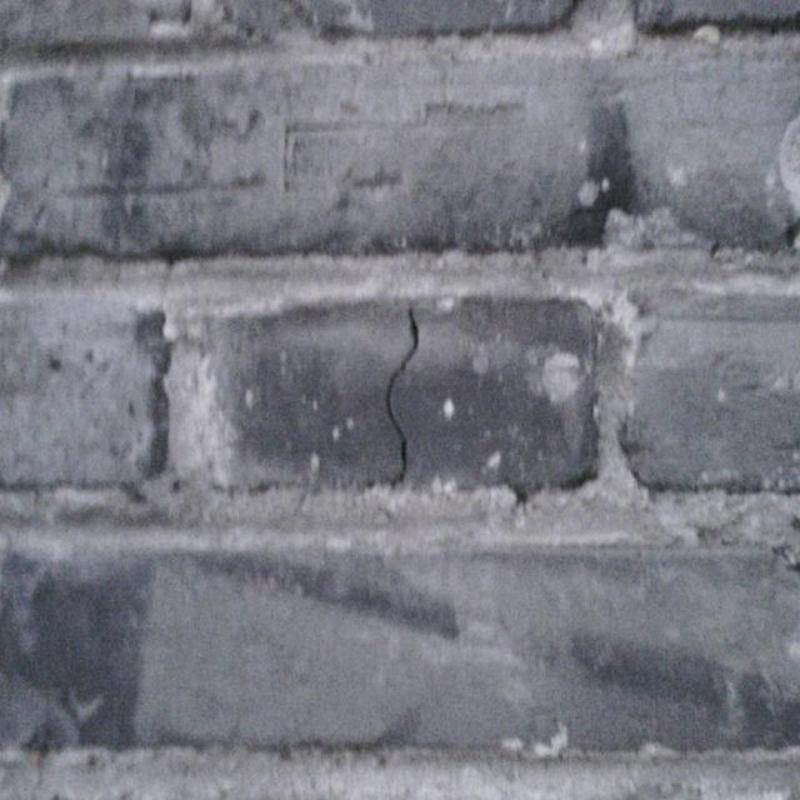pothole: (386, 306, 419, 480)
